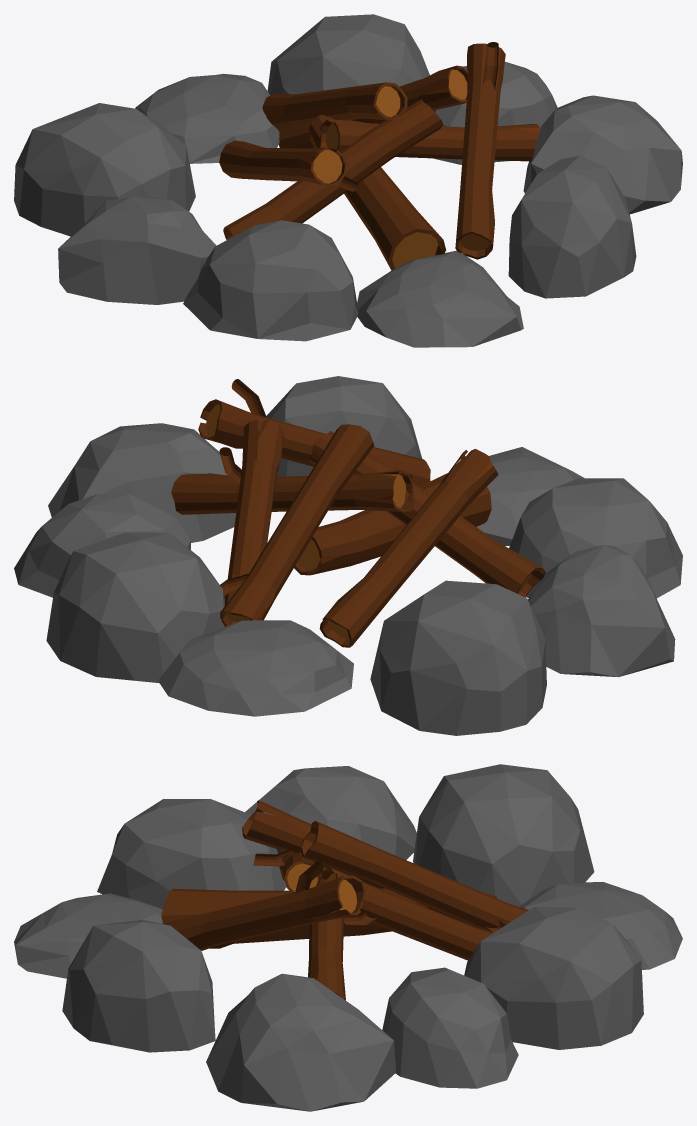
File: campfire.glb
3 renders of one model, top to bottom at view 1: azimuth 30°, elevation 25°; view 2: azimuth 150°, elevation 25°; view 3: azimuth 270°, elevation 25°, orthographic. The views are drawn at different scales.
Parts seen in each view (by area): view 1: campfire_burnt; view 2: campfire_burnt; view 3: campfire_burnt.
Part boxes in pixels (x1,y1,x2,y2): campfire_burnt: [14, 14, 682, 347]; campfire_burnt: [14, 376, 682, 735]; campfire_burnt: [14, 764, 682, 1111].
Size of the model in its own units: 1.43 by 0.3703 by 1.34.
